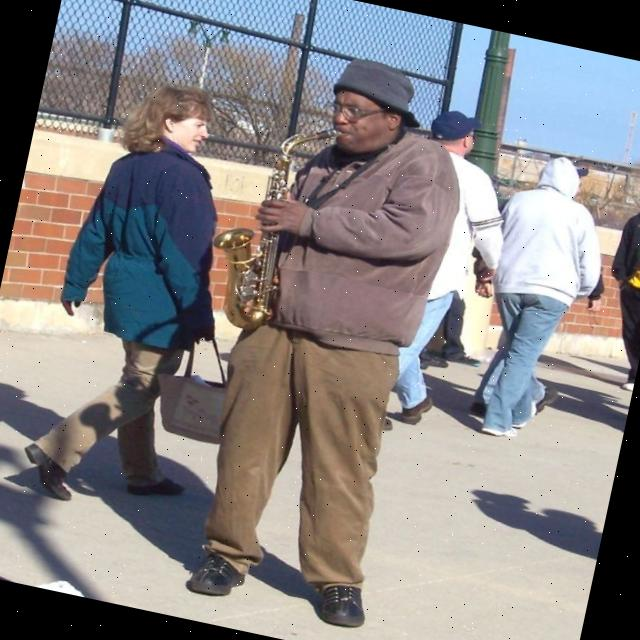saxophone: (194, 108, 340, 342)
